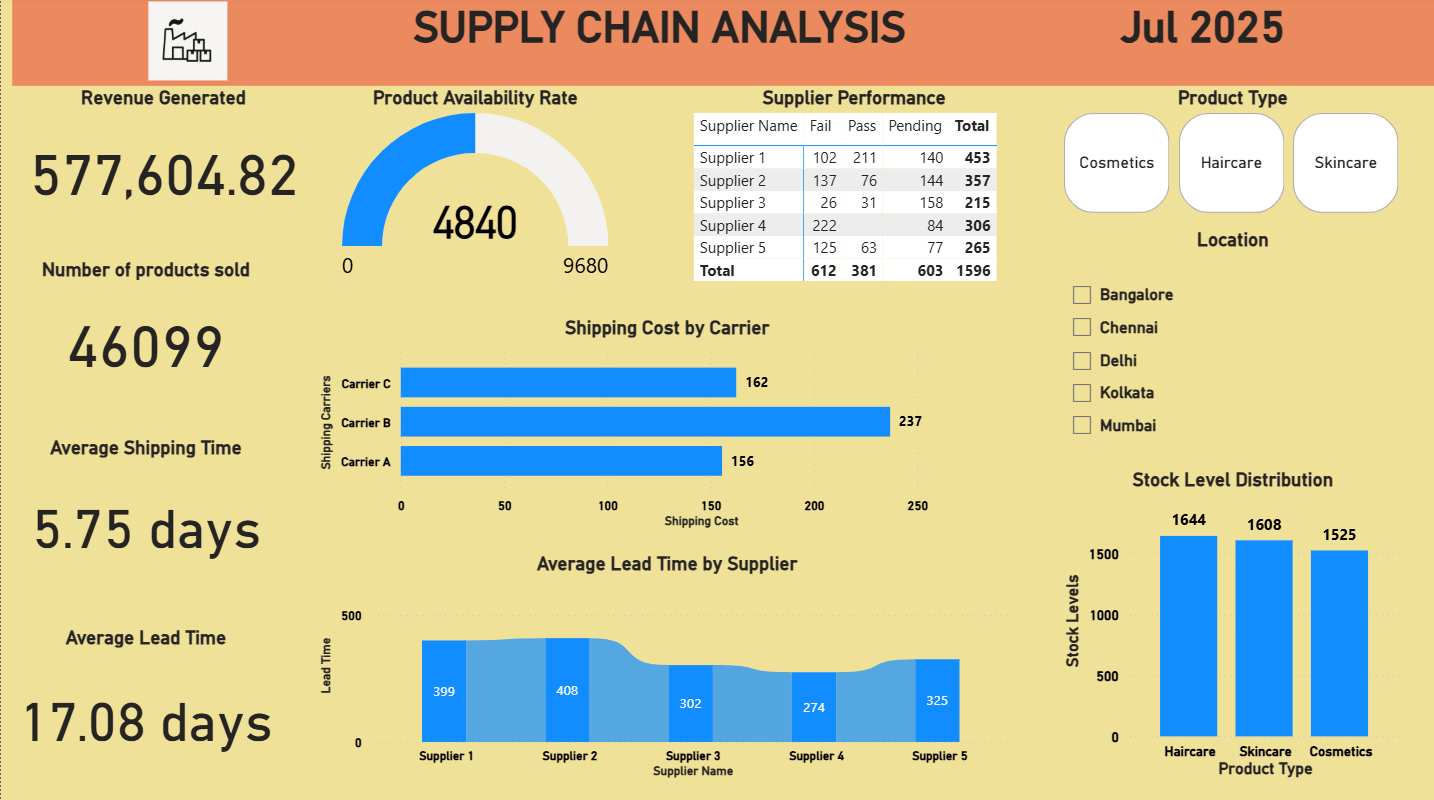

What the dashboard file says about the page in this screenshot:
{"tool":"powerbi","page":{"name":"Dashboard","canvas":[1280,720],"ordinal":0},"visuals":[{"type":"textbox","box":[10,0,1270.1,80.1],"z":0},{"type":"card","title":"Revenue Generated","fields":{"Values":["supply_chain_table.Revenue Generated"]},"box":[10,80.1,269.4,126.9],"z":1000},{"type":"gauge","title":"Product Availability Rate","fields":{"Y":["Sum(supply_chain_table.Availability)"]},"box":[279.4,80.1,286.1,182.6],"z":2000},{"type":"card","title":"Average Shipping Time","fields":{"Values":["supply_chain_table.Avg Shipping Time"]},"box":[10,391.8,238.2,135.8],"z":3000},{"type":"card","title":"Number of products sold","fields":{"Values":["Sum(supply_chain_table.Number_of_products_sold)"]},"box":[10,233.8,238.2,125.8],"z":4000},{"type":"card","title":"Average Lead Time","fields":{"Values":["supply_chain_table.Avg Lead Time"]},"box":[10,561,238.2,140.3],"z":5000},{"type":"columnChart","title":"Stock Level Distribution","fields":{"Y":["Sum(supply_chain_table.Stock_levels)"],"Category":["supply_chain_table.Product_type"]},"box":[941.7,420.8,310.6,280.5],"z":6000},{"type":"ribbonChart","title":"Average Lead Time by Supplier","fields":{"Category":["supply_chain_table.Supplier_name"],"Y":["Sum(supply_chain_table.Lead_time)"]},"box":[279.4,495.4,627.8,205.9],"z":7000},{"type":"pivotTable","title":"Supplier Performance","fields":{"Rows":["supply_chain_table.Supplier_name"],"Values":["Sum(supply_chain_table.Lead_times)"],"Columns":["supply_chain_table.Inspection_results"]},"box":[612.2,80.1,295,182.6],"z":8000},{"type":"barChart","title":"Shipping Cost by Carrier","fields":{"Category":["supply_chain_table.Shipping_carriers"],"Y":["Sum(supply_chain_table.Shipping_costs)"]},"box":[279.4,285,627.8,193.7],"z":9000},{"type":"advancedSlicerVisual","fields":{"Values":["supply_chain_table.Product_type"]},"box":[941.7,80.1,310.6,119.1],"z":10000},{"type":"slicer","title":"Location","fields":{"Values":["supply_chain_table.Location"]},"box":[941.7,207.1,310.6,201.5],"z":11000},{"type":"image","box":[0,0,332.8,80.1],"z":11001}]}

Visuals, with their boxes in screenshot pixels (x1, y1, x2, y2), scaled from the page's 1280x720 canvas onto the 1434x800 screenshot:
textbox: pyautogui.locateOnScreen(11, 0, 1433, 89)
"Revenue Generated" card: pyautogui.locateOnScreen(11, 89, 313, 230)
"Product Availability Rate" gauge: pyautogui.locateOnScreen(313, 89, 634, 292)
"Average Shipping Time" card: pyautogui.locateOnScreen(11, 435, 278, 586)
"Number of products sold" card: pyautogui.locateOnScreen(11, 260, 278, 400)
"Average Lead Time" card: pyautogui.locateOnScreen(11, 623, 278, 779)
"Stock Level Distribution" columnChart: pyautogui.locateOnScreen(1055, 468, 1403, 779)
"Average Lead Time by Supplier" ribbonChart: pyautogui.locateOnScreen(313, 550, 1016, 779)
"Supplier Performance" pivotTable: pyautogui.locateOnScreen(686, 89, 1016, 292)
"Shipping Cost by Carrier" barChart: pyautogui.locateOnScreen(313, 317, 1016, 532)
advancedSlicerVisual - supply_chain_table.Product_type: pyautogui.locateOnScreen(1055, 89, 1403, 221)
"Location" slicer: pyautogui.locateOnScreen(1055, 230, 1403, 454)
image: pyautogui.locateOnScreen(0, 0, 373, 89)
